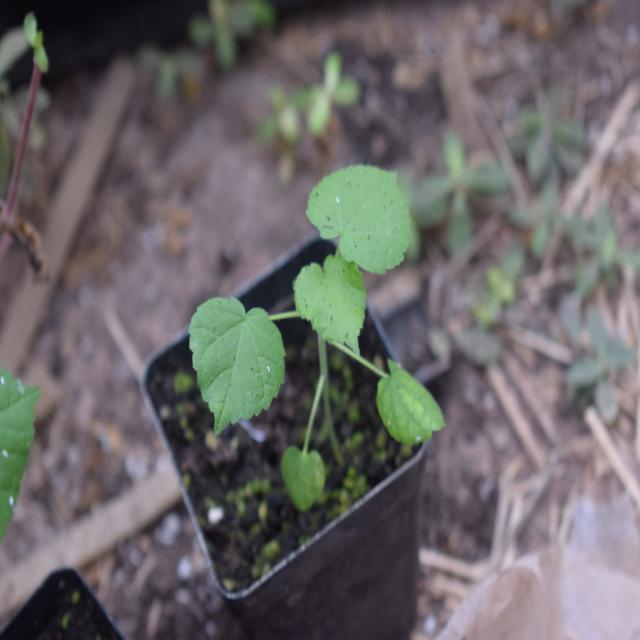abutilon theophrasti: (177, 147, 439, 514)
